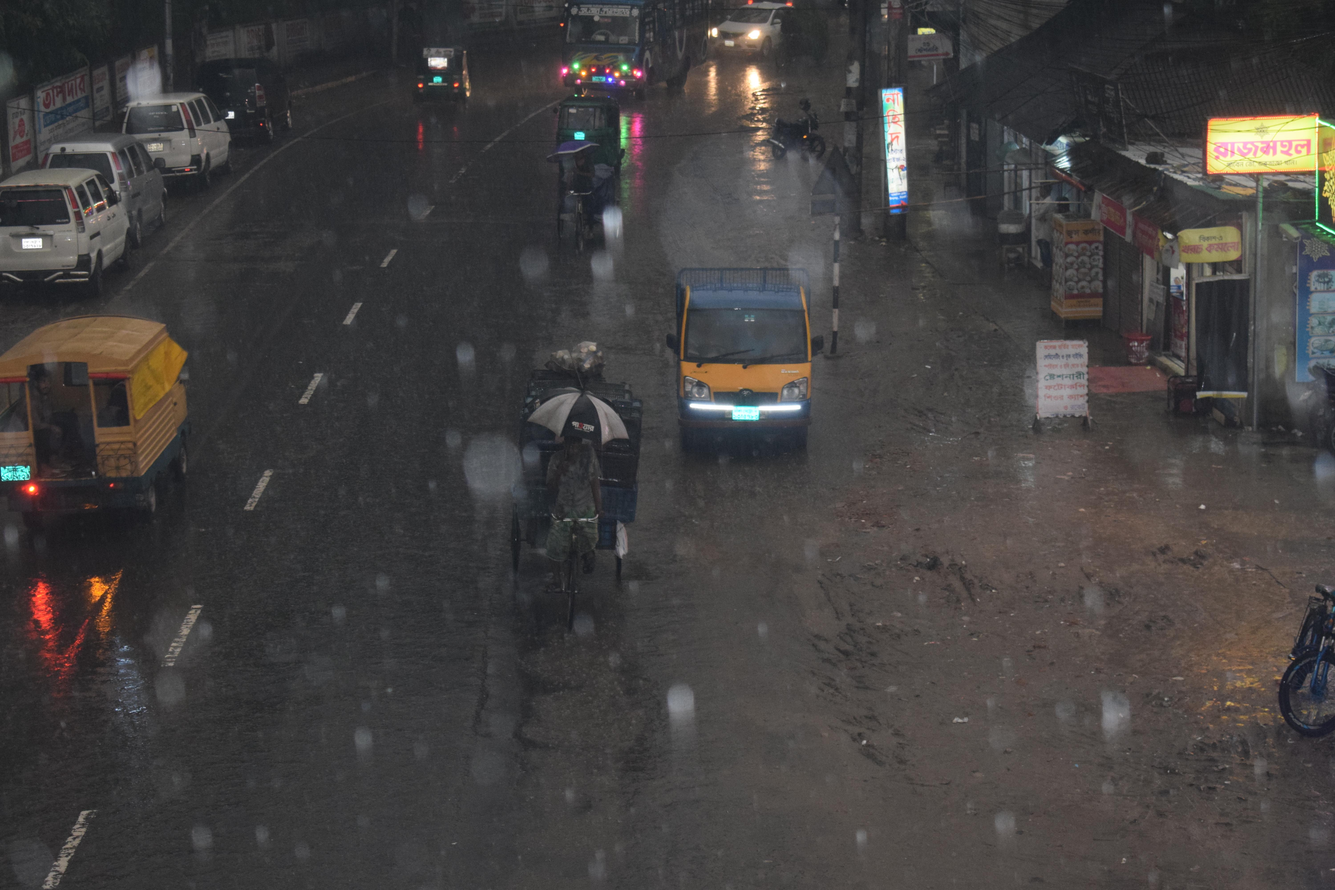Bus: (535, 0, 719, 101)
Car: (449, 324, 676, 640), (0, 293, 237, 567), (0, 161, 161, 305), (38, 114, 178, 267), (107, 57, 256, 197), (527, 121, 652, 271), (172, 29, 314, 150), (688, 0, 812, 72)
Truck: (633, 239, 840, 483)
